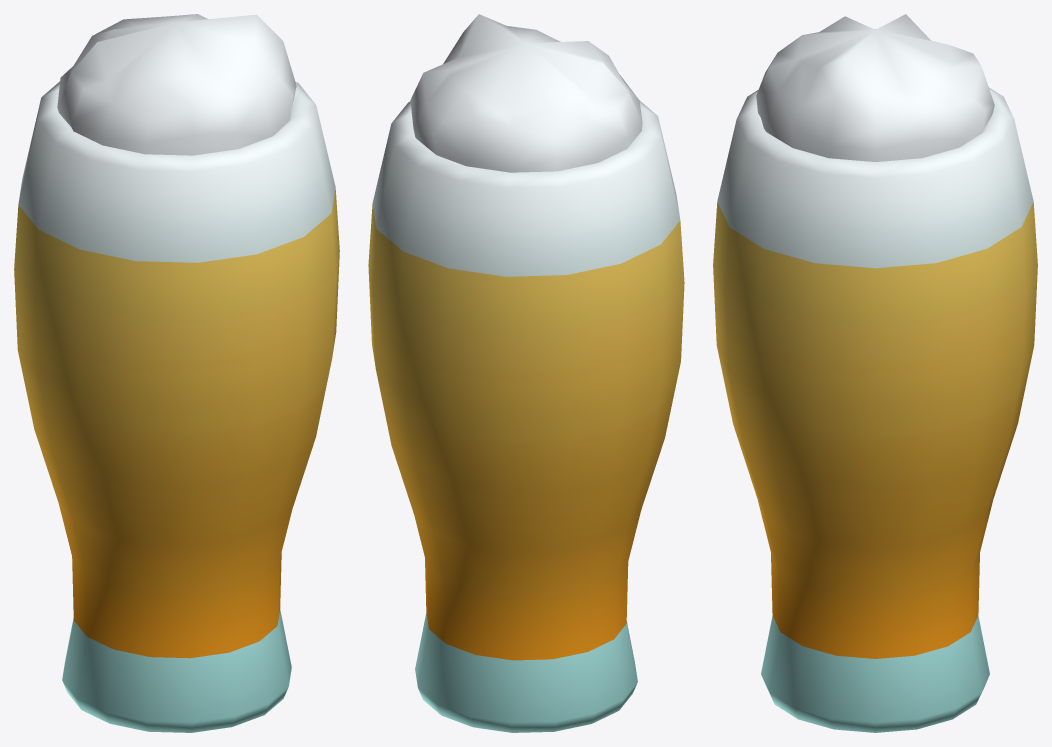
Rendered from SM_Goblet_8.fbx.
The picture shows the model from 3 angles, left to right: view 1: azimuth 30°, elevation 25°; view 2: azimuth 150°, elevation 25°; view 3: azimuth 270°, elevation 25°; orthographic projection. The views are drawn at different scales.
Parts seen in each view (by area): view 1: SM_Goblet_8; view 2: SM_Goblet_8; view 3: SM_Goblet_8.
Boxes of the visible parts, x1=… form: SM_Goblet_8: x1=14, y1=14, x2=339, y2=732; SM_Goblet_8: x1=368, y1=14, x2=684, y2=732; SM_Goblet_8: x1=713, y1=14, x2=1037, y2=732.
Bounding box in the file's own units: 9.66 × 21.66 × 9.66.
1 material, 1 textured.
